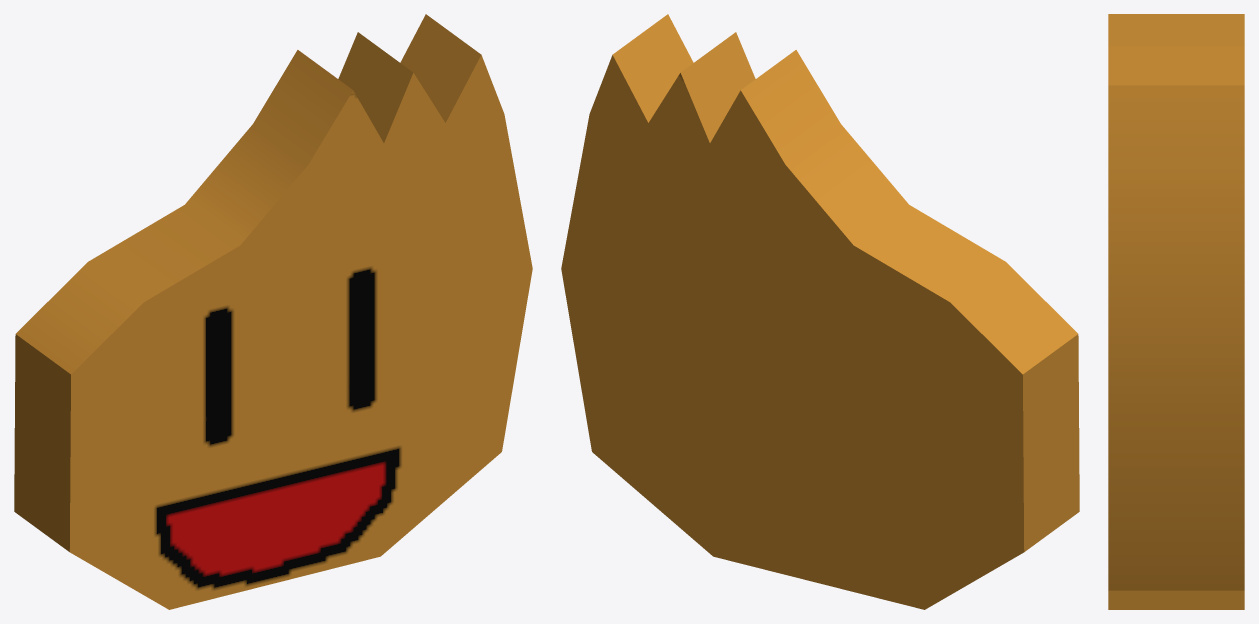
File: fireOverlay.FBX
The picture shows the model from 3 angles, left to right: view 1: azimuth 30°, elevation 25°; view 2: azimuth 150°, elevation 25°; view 3: azimuth 270°, elevation 25°; orthographic projection. The views are drawn at different scales.
Visible parts, largest first — view 1: Line001; view 2: Line001; view 3: Line001.
Boxes of the visible parts, x1=… form: Line001: x1=14, y1=14, x2=532, y2=609; Line001: x1=561, y1=14, x2=1079, y2=609; Line001: x1=1108, y1=14, x2=1244, y2=609.
Bounding box in the file's own units: 22.02 × 4.58 × 21.78.
Materials: 1 (1 with a texture image).
